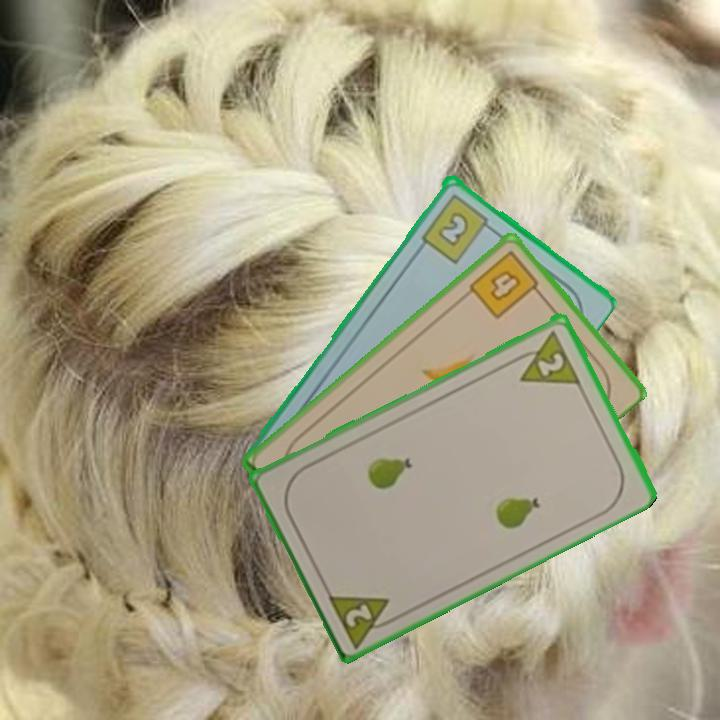2b: (417, 189, 497, 266)
2p: (324, 588, 403, 649), (507, 325, 584, 387)
4b: (465, 246, 546, 322)
